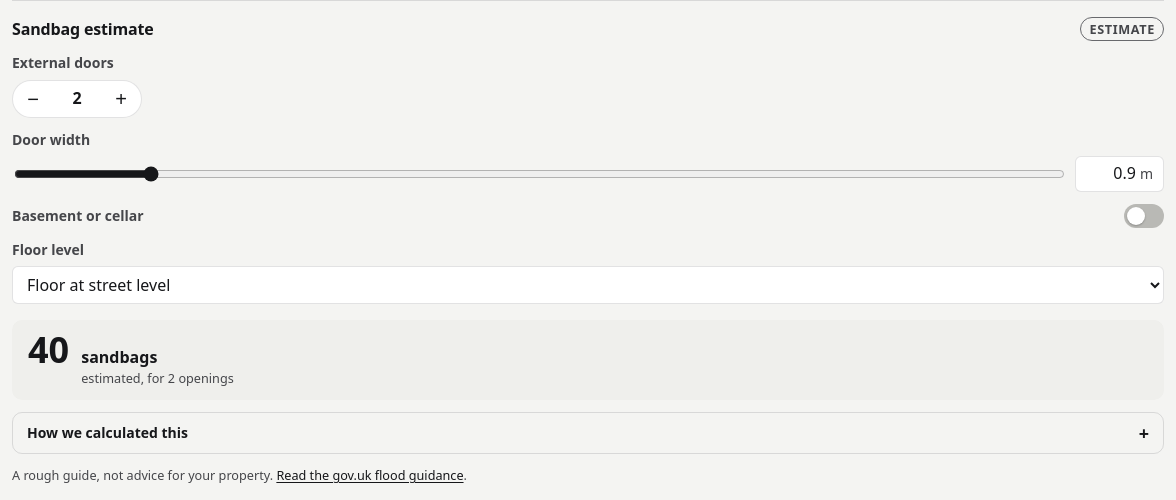
Test case: SandbagCard › shows the estimate and updates it when a door is added
Expected: the text with test id "bag-total" reads "40", x1=28 y1=325 x2=69 y2=374
Step 1. Click the button named "More doors" → (121, 99), box x1=101 y1=81 x2=141 y2=117
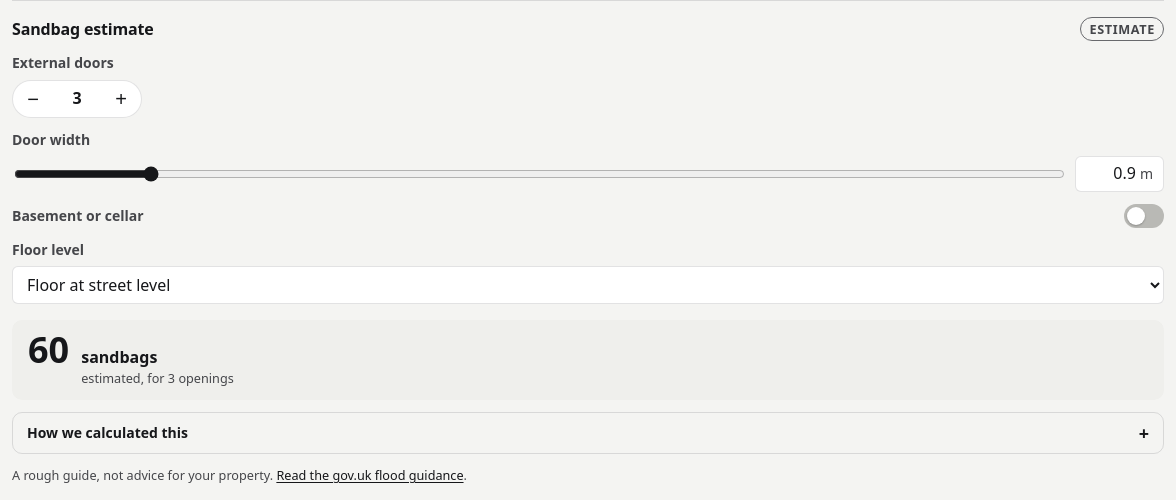
Expected: the text "Estimate" is shown, x1=1080 y1=17 x2=1164 y2=41
Expected: the text with test id "bag-total" reads "60", x1=28 y1=325 x2=69 y2=374
